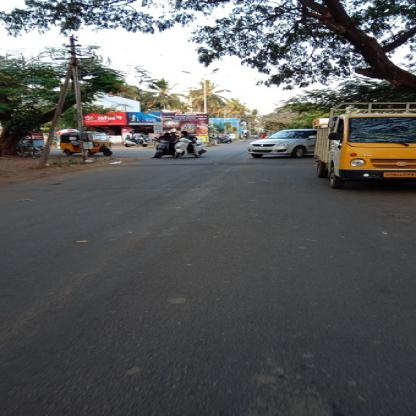speed-bumps: (97, 156, 311, 172)
